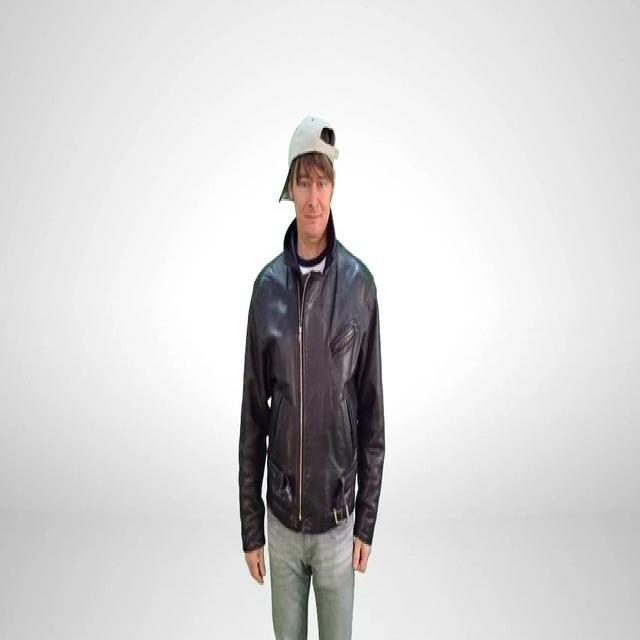Jacket_Wearer: (233, 237, 383, 556)
Person: (233, 114, 388, 640)
